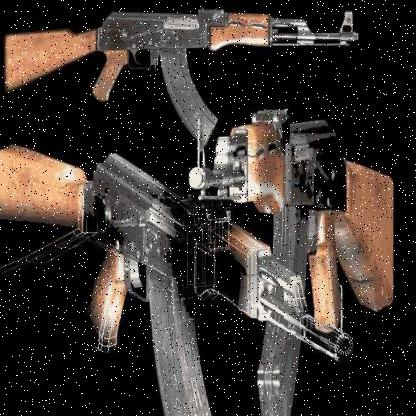rifle: (0, 1, 381, 146)
